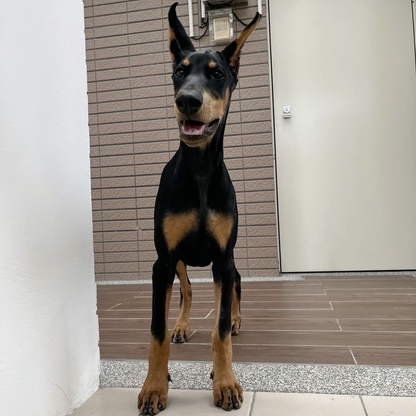doberman: (147, 6, 249, 416)
